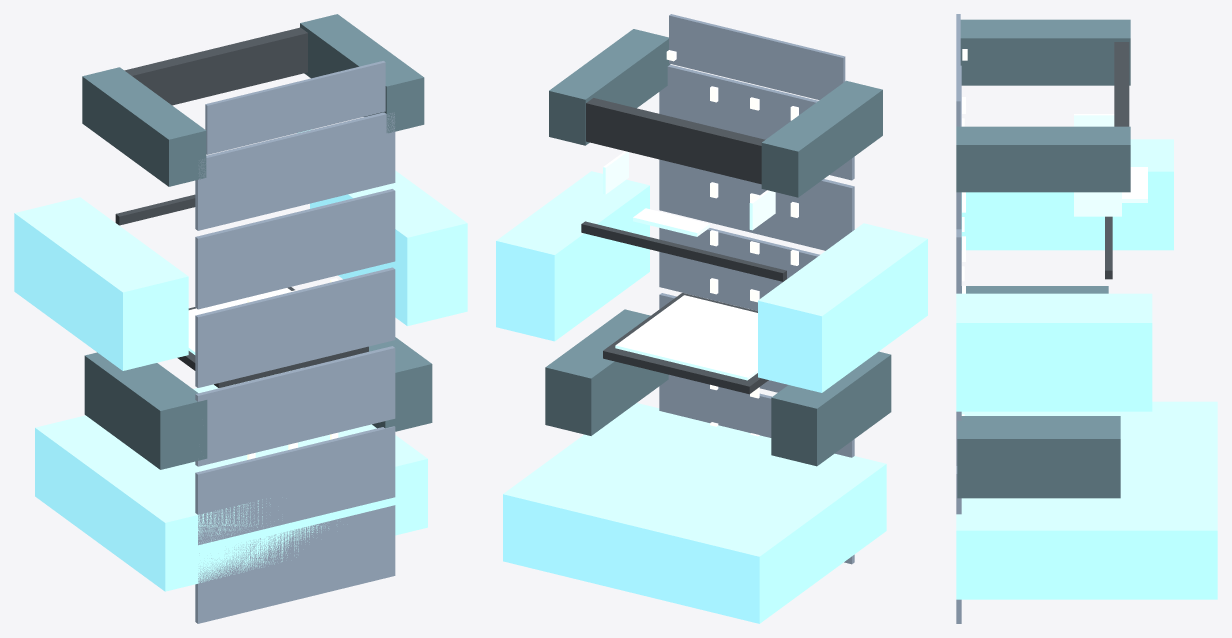
Rendered from interact_finish_frame_yard.glb.
3 renders of one model, left to right at view 1: azimuth 30°, elevation 25°; view 2: azimuth 150°, elevation 25°; view 3: azimuth 270°, elevation 25°, orthographic. The views are drawn at different scales.
Parts seen in each view (by area): view 1: interact_finish_frame_yard; view 2: interact_finish_frame_yard; view 3: interact_finish_frame_yard.
Part boxes in pixels (x1,y1,x2,y2): interact_finish_frame_yard: [14, 14, 467, 623]; interact_finish_frame_yard: [496, 14, 927, 623]; interact_finish_frame_yard: [956, 14, 1217, 623].
Size of the model in its own units: 18.35 by 26.25 by 12.
